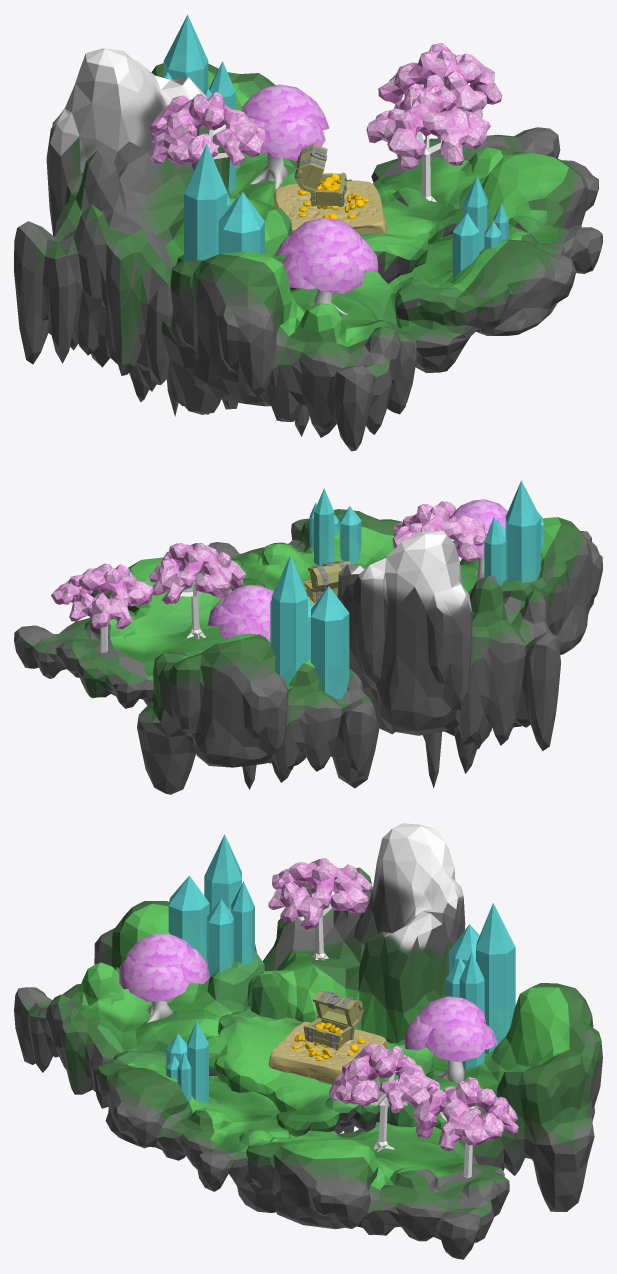
3 views of the same model, one above another, from view 1: azimuth 30°, elevation 25°; view 2: azimuth 150°, elevation 25°; view 3: azimuth 270°, elevation 25° (orthographic). The views are drawn at different scales.
Visible parts, largest first — view 1: earth_Cube.013, earth_Cube.001, earth_Cube.002, Icosphere.000, Circle, tree, earth_Cube.003, kiogame3, Chest_Bottom_Wood, earth_Cube.004; view 2: earth_Cube.001, earth_Cube.013, Circle, Icosphere.000, earth_Cube.002, earth_Cube.003, tree, Chest_Bottom_Wood, earth_Cube.004; view 3: earth_Cube.002, earth_Cube.013, earth_Cube.001, Circle, Icosphere.000, earth_Cube.003, tree, kiogame3, Chest_Bottom_Wood.
Part boxes in pixels (left/top/right/bottom): earth_Cube.013: left=14, top=63, right=602, bottom=403; earth_Cube.001: left=14, top=151, right=600, bottom=451; earth_Cube.002: left=165, top=71, right=568, bottom=346; Icosphere.000: left=149, top=43, right=502, bottom=202; Circle: left=163, top=14, right=508, bottom=277; tree: left=241, top=84, right=378, bottom=314; earth_Cube.003: left=47, top=48, right=225, bottom=173; kiogame3: left=273, top=180, right=386, bottom=233; Chest_Bottom_Wood: left=294, top=144, right=369, bottom=219; earth_Cube.004: left=81, top=150, right=124, bottom=209; earth_Cube.001: left=14, top=533, right=602, bottom=794; earth_Cube.013: left=14, top=509, right=602, bottom=736; Circle: left=270, top=480, right=543, bottom=698; Icosphere.000: left=51, top=501, right=486, bottom=652; earth_Cube.002: left=109, top=517, right=561, bottom=689; earth_Cube.003: left=337, top=530, right=472, bottom=635; tree: left=207, top=499, right=507, bottom=641; Chest_Bottom_Wood: left=302, top=560, right=350, bottom=602; earth_Cube.004: left=469, top=575, right=503, bottom=612; earth_Cube.002: left=78, top=904, right=569, bottom=1189; earth_Cube.013: left=14, top=885, right=602, bottom=1238; earth_Cube.001: left=14, top=954, right=602, bottom=1259; Circle: left=166, top=834, right=515, bottom=1102; Icosphere.000: left=268, top=858, right=518, bottom=1177; earth_Cube.003: left=367, top=823, right=465, bottom=979; tree: left=119, top=933, right=497, bottom=1082; kiogame3: left=268, top=1021, right=387, bottom=1084; Chest_Bottom_Wood: left=292, top=991, right=365, bottom=1060.
Bounding box in the file's own units: 1472 × 812 × 1396.
11 materials, 6 textured.
